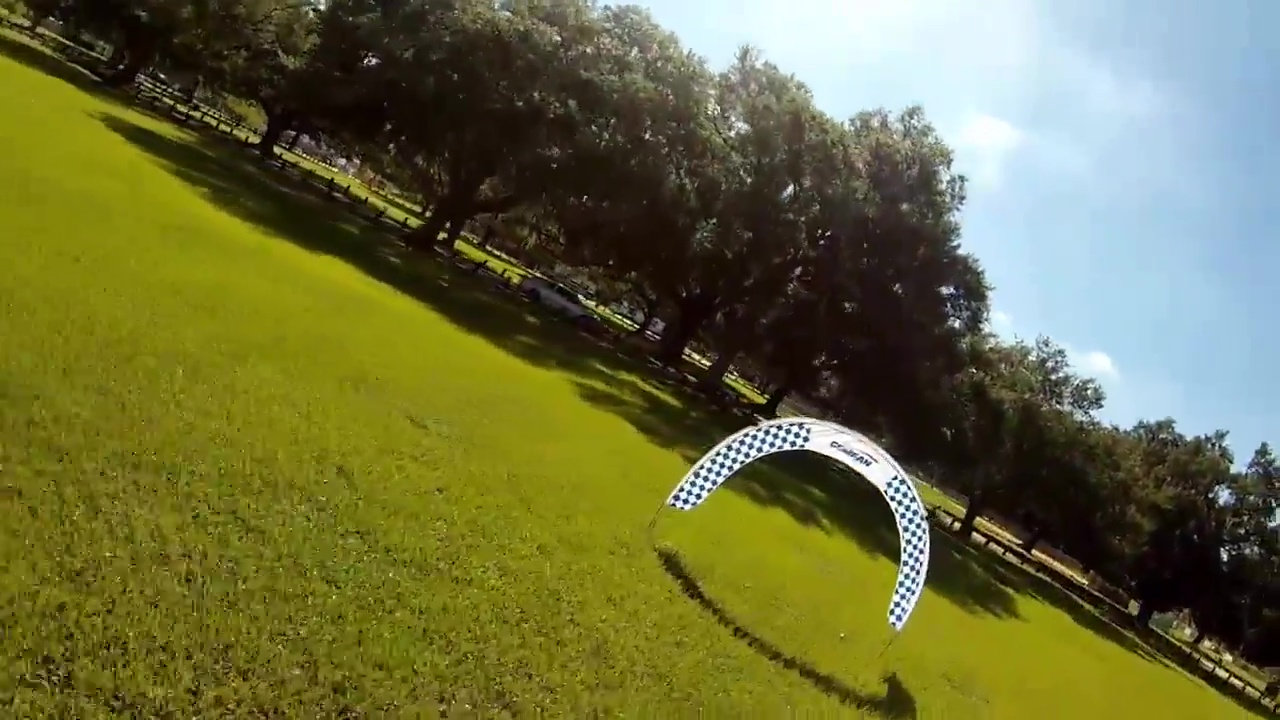gate: (662, 413, 933, 629)
